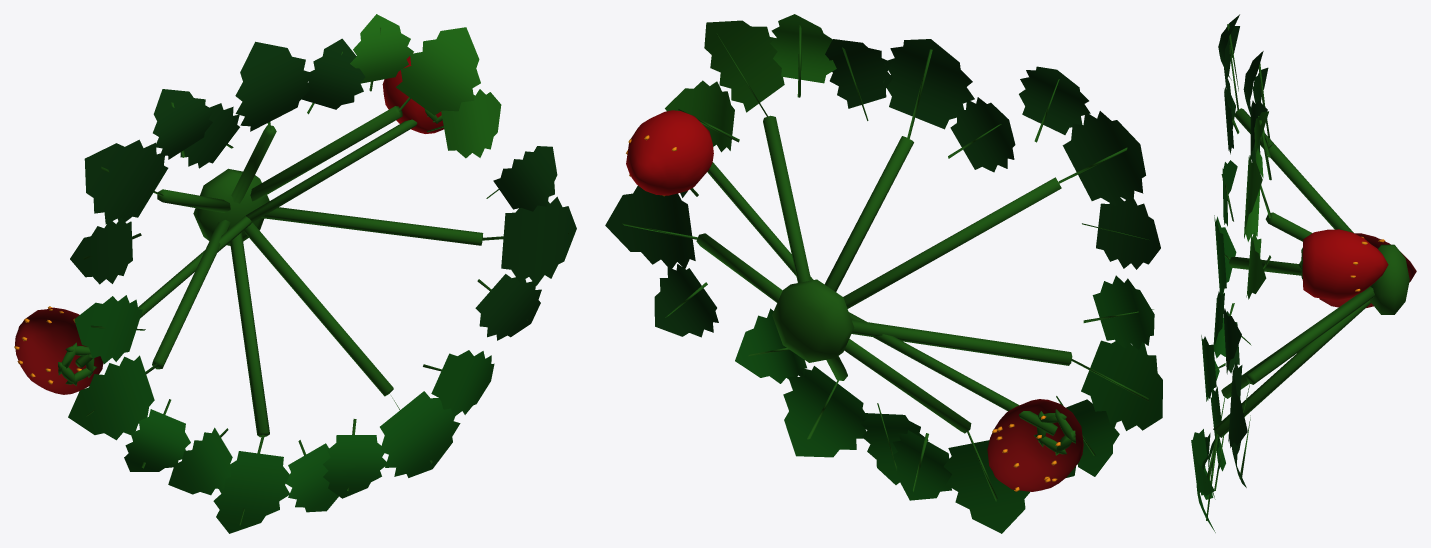
The model's file is plant_variant_13.obj.
The picture shows the model from 3 angles, left to right: view 1: azimuth 30°, elevation 25°; view 2: azimuth 150°, elevation 25°; view 3: azimuth 270°, elevation 25°; orthographic projection. The views are drawn at different scales.
Parts seen in each view (by area): view 1: field_export_plant_variant_13; view 2: field_export_plant_variant_13; view 3: field_export_plant_variant_13.
Boxes of the visible parts, box(x1,y1,x2,y2) form: field_export_plant_variant_13: box(14, 14, 576, 533); field_export_plant_variant_13: box(605, 14, 1162, 533); field_export_plant_variant_13: box(1191, 14, 1416, 532).
Size of the model in its own units: 0.6334 by 0.5478 by 0.2584.
